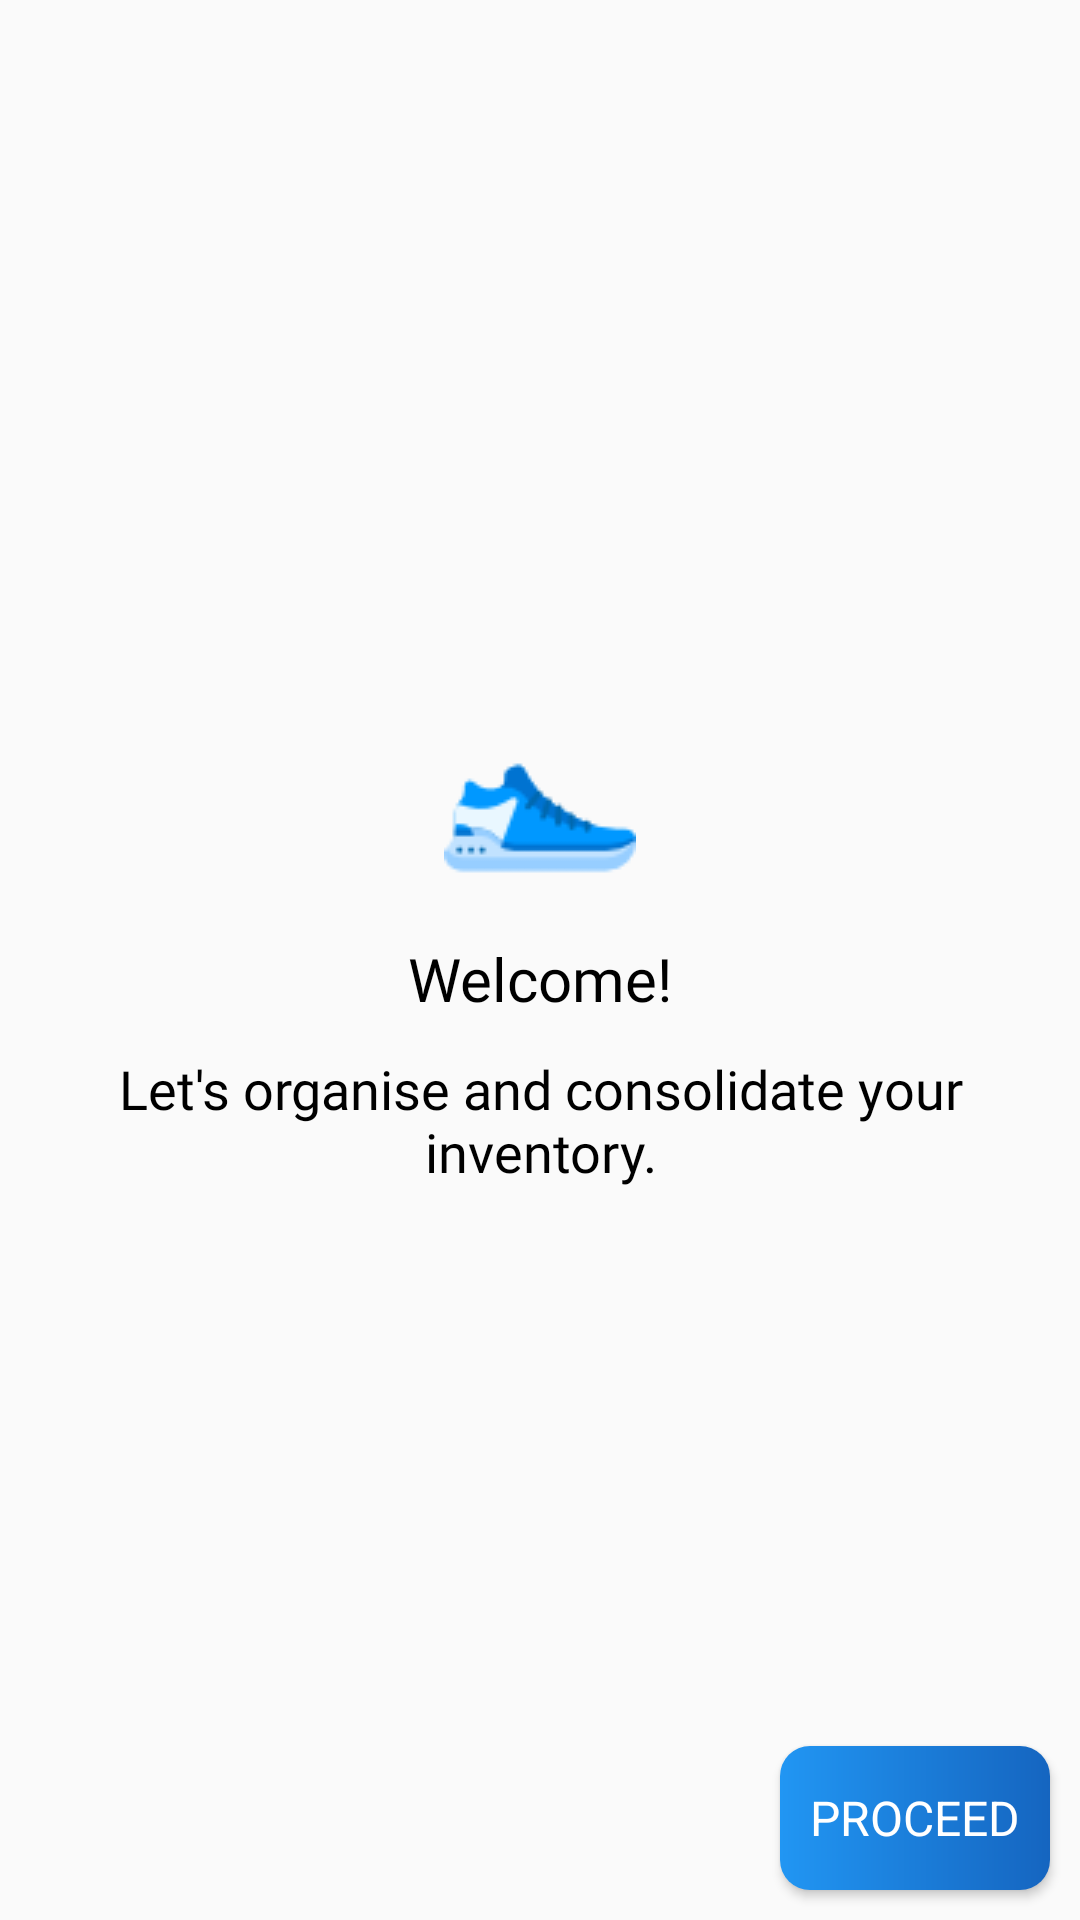

Named icons in this screenshot (1080w x 1920h) and their bounding boxes, (x1, y1, x2, y2):
kicks: (444, 763, 636, 872)
